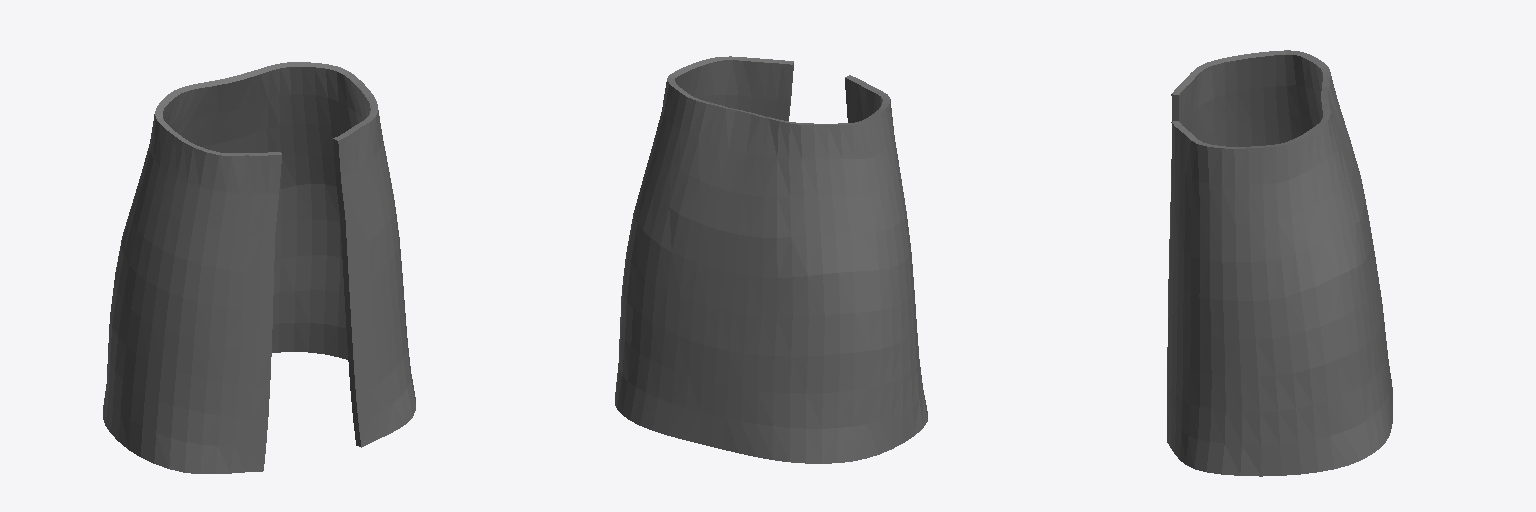
The model's file is LowPoly_Guarda_SaiaDeCouro.obj.
The picture shows the model from 3 angles: view 1: azimuth 30°, elevation 25°; view 2: azimuth 150°, elevation 25°; view 3: azimuth 270°, elevation 25°; orthographic projection.
Parts seen in each view (by area): view 1: LowPoly_Guarda_SaiaDeCouro; view 2: LowPoly_Guarda_SaiaDeCouro; view 3: LowPoly_Guarda_SaiaDeCouro.
Part boxes in pixels (bbox=[...]): LowPoly_Guarda_SaiaDeCouro: bbox=[103, 62, 415, 473]; LowPoly_Guarda_SaiaDeCouro: bbox=[615, 56, 927, 463]; LowPoly_Guarda_SaiaDeCouro: bbox=[1167, 50, 1392, 476].
Bounding box in the file's own units: 34.94 × 39.63 × 25.01.